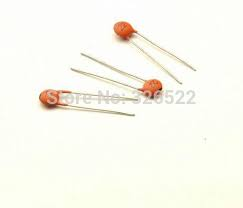ceramic capacitor: (31, 80, 93, 132), (100, 3, 158, 53), (139, 77, 171, 100)
